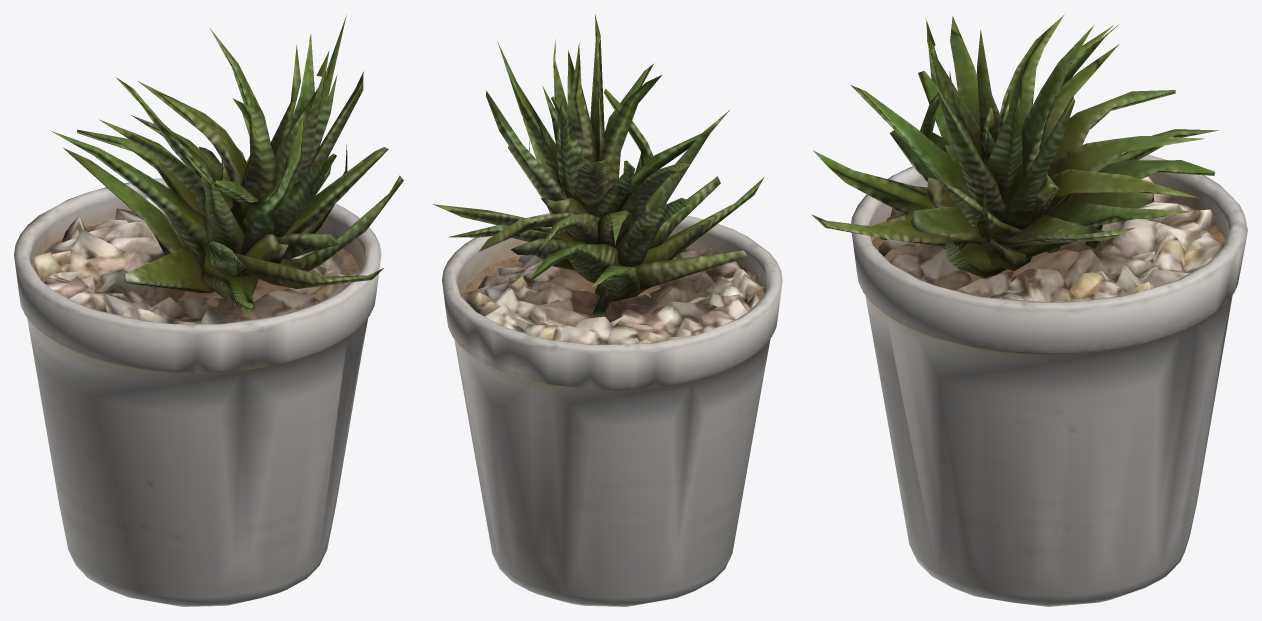
File: potted_plant_04.glb
3 renders of one model, left to right at view 1: azimuth 30°, elevation 25°; view 2: azimuth 150°, elevation 25°; view 3: azimuth 270°, elevation 25°, orthographic. The views are drawn at different scales.
Parts seen in each view (by area): view 1: potted_plant_04_pot, potted_plant_04_plant, potted_plant_04_ground, potted_plant_04_dirt; view 2: potted_plant_04_pot, potted_plant_04_plant, potted_plant_04_ground, potted_plant_04_dirt; view 3: potted_plant_04_pot, potted_plant_04_plant, potted_plant_04_ground, potted_plant_04_dirt.
Boxes of the visible parts, bbox=[...] form: potted_plant_04_pot: bbox=[14, 178, 381, 606]; potted_plant_04_plant: bbox=[51, 15, 403, 311]; potted_plant_04_ground: bbox=[33, 196, 356, 323]; potted_plant_04_dirt: bbox=[34, 224, 361, 306]; potted_plant_04_pot: bbox=[442, 213, 782, 606]; potted_plant_04_plant: bbox=[433, 14, 764, 315]; potted_plant_04_ground: bbox=[460, 247, 764, 344]; potted_plant_04_dirt: bbox=[460, 247, 764, 304]; potted_plant_04_pot: bbox=[851, 144, 1247, 606]; potted_plant_04_plant: bbox=[811, 14, 1218, 278]; potted_plant_04_ground: bbox=[878, 176, 1224, 302]; potted_plant_04_dirt: bbox=[872, 208, 1225, 297].
Bounding box in the file's own units: 0.1672 × 0.2671 × 0.1843.
Materials: 1 (1 with a texture image).
